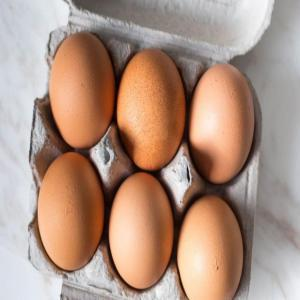Egg: (32, 134, 108, 280), (114, 40, 188, 174), (49, 21, 117, 154), (191, 53, 260, 182), (104, 167, 174, 292), (178, 192, 248, 296)
